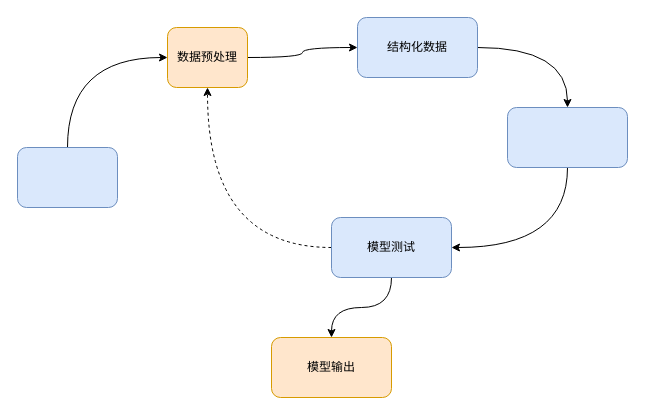
Some shapes in this 645 by 415 pixel diagram are drawn without their labels. The box of each missing label's shape, as (x1, y1, x2, y2) in pixels:
整理自有数据库表信息: (16, 146, 118, 208)
模型训练: (506, 106, 628, 168)
